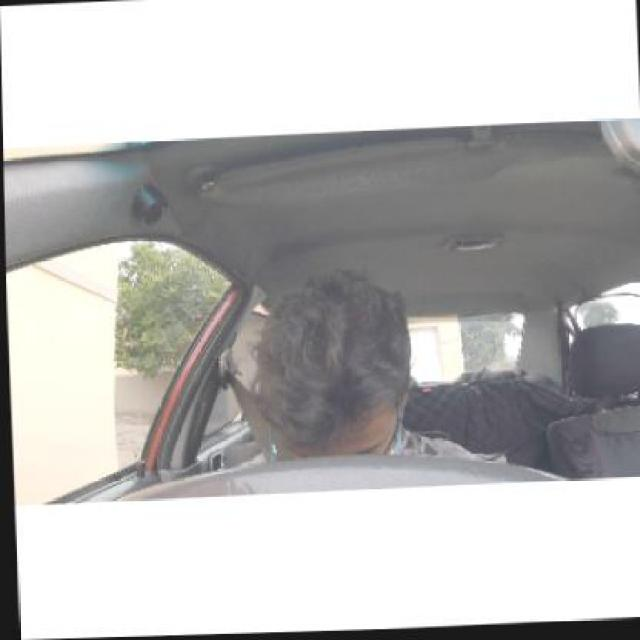drowsy: (216, 254, 457, 486)
